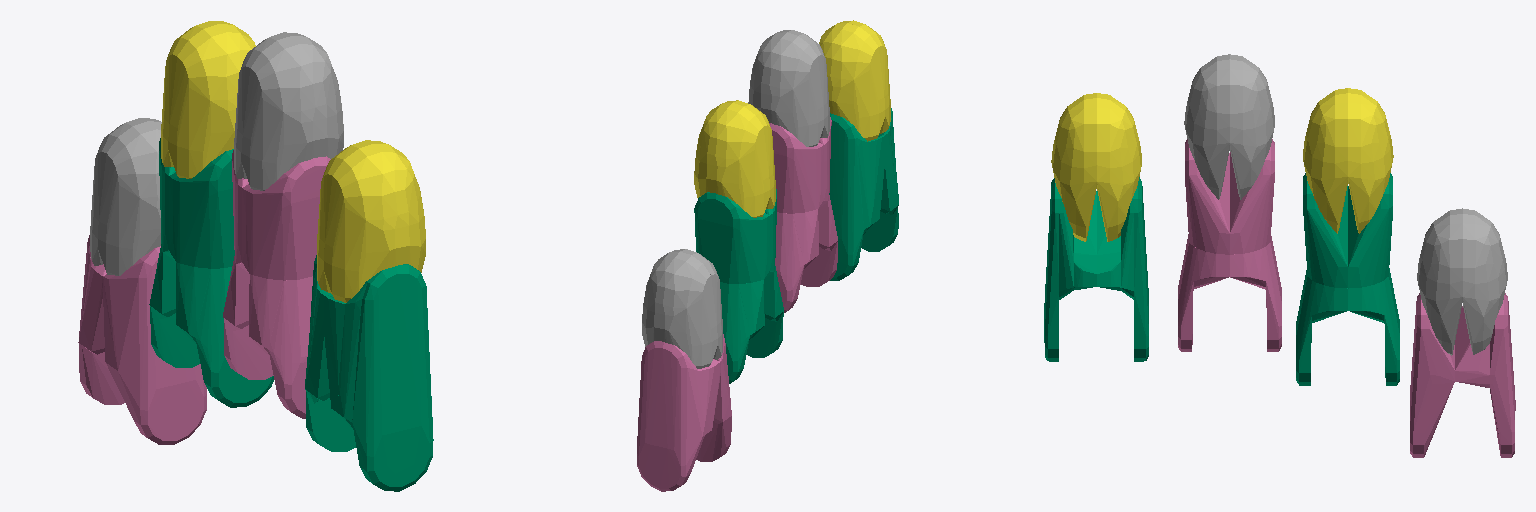
robot.urdf — svh:
<?xml version="1.0" encoding="utf-8"?>
<robot name="svh">
  <link name="base_link"/>
  <joint name="root_joint" type="fixed">
    <parent link="base_link"/>
    <child link="right_hand_base_link"/>
    <origin rpy="0 0 -1.57079" xyz="0 0 0"/>
  </joint>
  <link name="right_hand_base_link">
    <origin rpy="0 0 0" xyz="0 0 0"/>
    <visual>
      <origin rpy="0 0 0" xyz="0 0 -0.032"/>
      <geometry>
        <mesh filename="meshes/visual/base10.obj"/>
      </geometry>
    </visual>
    <collision>
      <origin rpy="0 0 0" xyz="0 0 -0.009"/>
      <geometry>
        <cylinder radius="0.045" length="0.045"/>
      </geometry>
    </collision>
  </link>
  <!-- LENGTH NOT FOUND IN DATASHEET! GUESSED!!! -->
  <link name="right_hand_e1">
    <visual>
      <origin rpy="0 0 0" xyz="0 0.01313 0"/>
      <geometry>
        <mesh filename="meshes/visual/h10_left.obj" scale="1 1 1"/>
      </geometry>
    </visual>
    <collision>
      <origin rpy="0 0 0" xyz="0 0.01313 0.013"/>
      <geometry>
        <box size="0.05 0.05 0.026"/>
      </geometry>
    </collision>
    <collision>
      <origin rpy="0 0 0" xyz="0.00573 0.0035 0.05747"/>
      <geometry>
        <box size="0.0584 0.038 0.0641"/>
      </geometry>
    </collision>
    <collision>
      <origin rpy="0 0 0" xyz="0.01 0.0035 0.096"/>
      <geometry>
        <box size="0.042 0.038 0.015"/>
      </geometry>
    </collision>
  </link>
  <!-- LENGTH NOT FOUND IN DATASHEET! GUESSED!!! -->
  <link name="right_hand_e2">
    <visual>
      <origin xyz="0.0007 0 -0.01002"/>
      <geometry>
        <mesh filename="meshes/visual/h11_left.obj" scale="1 1 1"/>
      </geometry>
    </visual>
    <collision>
      <origin rpy="0 0 0" xyz="-0.016 0 0.02"/>
      <geometry>
        <box size="0.0246 0.035 0.0564"/>
      </geometry>
    </collision>
    <collision>
      <origin rpy="0 0 0" xyz="-0.0032 -0.0083 0.048"/>
      <geometry>
        <box size="0.012 0.018 0.021"/>
      </geometry>
    </collision>
  </link>
  <!-- THUMB LINKS -->
  <link name="right_hand_z">
    <visual>
      <origin xyz="0 0 0.02442"/>
      <geometry>
        <mesh filename="meshes/visual/d10_left.obj" scale="1 1 1"/>
      </geometry>
    </visual>
    <collision>
      <origin xyz="0 0 0.02842"/>
      <geometry>
        <box size="0.024 0.0188 0.008"/>
      </geometry>
    </collision>
    <collision>
      <origin xyz="0.0125 0.0 0.04292"/>
      <geometry>
        <box size="0.006 0.024 0.033"/>
      </geometry>
    </collision>
    <collision>
      <origin xyz="-0.0125 0.0 0.04292"/>
      <geometry>
        <box size="0.006 0.024 0.033"/>
      </geometry>
    </collision>
  </link>
  <link name="right_hand_a">
    <visual>
      <geometry>
        <mesh filename="meshes/visual/d11_left.obj" scale="1 1 1"/>
      </geometry>
    </visual>
    <collision>
      <geometry>
        <mesh filename="meshes/collision/d11_left.obj" scale="1 1 1"/>
      </geometry>
    </collision>
  </link>
  <link name="right_hand_b">
    <visual>
      <geometry>
        <mesh filename="meshes/visual/d12_left.obj" scale="1 1 1"/>
      </geometry>
    </visual>
    <collision>
      <geometry>
        <mesh filename="meshes/collision/d12_left.obj" scale="1 1 1"/>
      </geometry>
    </collision>
  </link>
  <link name="right_hand_c">
    <inertial>
      <origin rpy="0 0 0" xyz="0.007 0.000 0.000"/>
      <mass value="0.02"/>
      <inertia ixx="1e-5" ixy="0.0" ixz="0.0" iyy="2e-5" iyz="0.0" izz="2e-5"/>
    </inertial>
    <visual>
      <geometry>
        <mesh filename="meshes/visual/d13_left.obj" scale="1 1 1"/>
      </geometry>
    </visual>
    <collision>
      <geometry>
        <mesh filename="meshes/collision/d13_left.obj" scale="1 1 1"/>
      </geometry>
    </collision>
  </link>
  <!-- INDEX FINGER LINKS -->
  <link name="right_hand_virtual_l">
    <visual>
      <origin xyz="0 0 0.01321"/>
      <geometry>
        <mesh filename="meshes/visual/f10_f20.obj"/>
      </geometry>
    </visual>
    <collision>
      <origin xyz="0 0 0.00121"/>
      <geometry>
        <sphere radius="0.01"/>
      </geometry>
    </collision>
  </link>
  <link name="right_hand_l">
    <visual>
      <geometry>
        <mesh filename="meshes/visual/f11.obj"/>
      </geometry>
    </visual>
    <collision>
      <geometry>
        <mesh filename="meshes/collision/f11.obj" scale="1 1 1"/>
      </geometry>
    </collision>
  </link>
  <link name="right_hand_p">
    <inertial>
      <origin rpy="0 0 0" xyz="0.01 0.000 0.000"/>
      <mass value="0.024"/>
      <inertia ixx="9e-7" ixy="0.0" ixz="0.0" iyy="3e-6" iyz="0.0" izz="2e-6"/>
    </inertial>
    <visual>
      <geometry>
        <mesh filename="meshes/visual/f12.obj"/>
      </geometry>
    </visual>
    <collision>
      <geometry>
        <mesh filename="meshes/collision/f12.obj"/>
      </geometry>
    </collision>
  </link>
  <link name="right_hand_t">
    <inertial>
      <origin rpy="0 0 0" xyz="0.007 0.000 0.000"/>
      <mass value="0.02"/>
      <inertia ixx="1e-5" ixy="0.0" ixz="0.0" iyy="2e-5" iyz="0.0" izz="2e-5"/>
    </inertial>
    <visual>
      <geometry>
        <mesh filename="meshes/visual/finger_tip.obj"/>
      </geometry>
    </visual>
    <collision>
      <geometry>
        <mesh filename="meshes/collision/finger_tip.obj" scale="1 1 1"/>
      </geometry>
    </collision>
  </link>
  <!-- MIDDLE FINGER LINKS -->
  <link name="right_hand_virtual_k">
    <visual>
      <origin xyz="0 0 0.01321"/>
      <geometry>
        <mesh filename="meshes/visual/f10_f20.obj"/>
      </geometry>
    </visual>
    <collision>
      <origin xyz="0 0 0.00321"/>
      <geometry>
        <sphere radius="0.01"/>
      </geometry>
    </collision>
  </link>
  <link name="right_hand_k">
    <visual>
      <geometry>
        <mesh filename="meshes/visual/f21.obj"/>
      </geometry>
    </visual>
    <collision>
      <geometry>
        <mesh filename="meshes/collision/f21.obj" scale="1 1 1"/>
      </geometry>
    </collision>
  </link>
  <link name="right_hand_o">
    <visual>
      <geometry>
        <mesh filename="meshes/visual/f22_f32.obj"/>
      </geometry>
    </visual>
    <collision>
      <geometry>
        <mesh filename="meshes/collision/f22_f32.obj" scale="1 1 1"/>
      </geometry>
    </collision>
  </link>
  <link name="right_hand_s">
    <inertial>
      <origin rpy="0 0 0" xyz="0.007 0.000 0.000"/>
      <mass value="0.02"/>
      <inertia ixx="1e-5" ixy="0.0" ixz="0.0" iyy="2e-5" iyz="0.0" izz="2e-5"/>
    </inertial>
    <visual>
      <geometry>
        <mesh filename="meshes/visual/finger_tip.obj"/>
      </geometry>
    </visual>
    <collision>
      <geometry>
        <mesh filename="meshes/collision/finger_tip.obj" scale="1 1 1"/>
      </geometry>
    </collision>
  </link>
  <!-- RING FINGER LINKS -->
  <link name="right_hand_virtual_j">
    <visual>
      <origin xyz="0 0 -0.01321"/>
      <geometry>
        <mesh filename="meshes/visual/f30_f40.obj"/>
      </geometry>
    </visual>
    <collision>
      <origin xyz="0 0 -0.00321"/>
      <geometry>
        <sphere radius="0.01"/>
      </geometry>
    </collision>
  </link>
  <link name="right_hand_j">
    <visual>
      <geometry>
        <mesh filename="meshes/visual/f31.obj"/>
      </geometry>
    </visual>
    <collision>
      <geometry>
        <mesh filename="meshes/collision/f31.obj" scale="1 1 1"/>
      </geometry>
    </collision>
  </link>
  <link name="right_hand_n">
    <visual>
      <geometry>
        <mesh filename="meshes/visual/f22_f32.obj"/>
      </geometry>
    </visual>
    <collision>
      <geometry>
        <mesh filename="meshes/collision/f22_f32.obj" scale="1 1 1"/>
      </geometry>
    </collision>
  </link>
  <link name="right_hand_r">
    <inertial>
      <origin rpy="0 0 0" xyz="0.007 0.000 0.000"/>
      <mass value="0.02"/>
      <inertia ixx="1e-5" ixy="0.0" ixz="0.0" iyy="2e-5" iyz="0.0" izz="2e-5"/>
    </inertial>
    <visual>
      <geometry>
        <mesh filename="meshes/visual/finger_tip.obj"/>
      </geometry>
    </visual>
    <collision>
      <geometry>
        <mesh filename="meshes/collision/finger_tip.obj" scale="1 1 1"/>
      </geometry>
    </collision>
  </link>
  <!-- LITTLE FINGER LINKS -->
  <link name="right_hand_virtual_i">
    <visual>
      <origin xyz="0 0 -0.01321"/>
      <geometry>
        <mesh filename="meshes/visual/f30_f40.obj"/>
      </geometry>
    </visual>
    <collision>
      <origin xyz="0 0 -0.00321"/>
      <geometry>
        <sphere radius="0.01"/>
      </geometry>
    </collision>
  </link>
  <link name="right_hand_i">
    <visual>
      <geometry>
        <mesh filename="meshes/visual/f41.obj"/>
      </geometry>
    </visual>
    <collision>
      <geometry>
        <mesh filename="meshes/collision/f41.obj"/>
      </geometry>
    </collision>
  </link>
  <link name="right_hand_m">
    <inertial>
      <origin rpy="0 0 0" xyz="0.007 0.000 0.000"/>
      <mass value="0.02"/>
      <inertia ixx="8e-7" ixy="0.0" ixz="0.0" iyy="2e-6" iyz="0.0" izz="2e-6"/>
    </inertial>
    <visual>
      <geometry>
        <mesh filename="meshes/visual/f42.obj"/>
      </geometry>
    </visual>
    <collision>
      <geometry>
        <mesh filename="meshes/collision/f42.obj"/>
      </geometry>
    </collision>
  </link>
  <link name="right_hand_q">
    <inertial>
      <origin rpy="0 0 0" xyz="0.007 0.000 0.000"/>
      <mass value="0.02"/>
      <inertia ixx="1e-5" ixy="0.0" ixz="0.0" iyy="2e-5" iyz="0.0" izz="2e-5"/>
    </inertial>
    <visual>
      <geometry>
        <mesh filename="meshes/visual/finger_tip.obj"/>
      </geometry>
    </visual>
    <collision>
      <geometry>
        <mesh filename="meshes/collision/finger_tip.obj"/>
      </geometry>
    </collision>
  </link>
  <joint name="right_hand_Thumb_Flexion" type="revolute">
    <parent link="right_hand_z"/>
    <child link="right_hand_a"/>
    <limit effort="1000.0" lower="0.0" upper="0.9704" velocity="1"/>
    <origin rpy="-1.57079 -0.6004 -1.57079" xyz="0 0 0.04596"/>
    <axis xyz="0 0 1"/>
  </joint>
  <!-- BASE_LINE JOINTS -->
  <joint name="right_hand_Thumb_Opposition" type="revolute">
    <parent link="right_hand_e1"/>
    <child link="right_hand_z"/>
    <limit effort="1000.0" lower="0.0" upper="0.9879" velocity="1"/>
    <origin rpy="0 0.2618 1.571" xyz="0.0169 0.02626 0"/>
    <axis xyz="0 0 1"/>
  </joint>
  <joint name="right_hand_f4" type="fixed">
    <parent link="right_hand_base_link"/>
    <child link="right_hand_e1"/>
    <origin rpy="0 0 0" xyz="0 -0.01313 0"/>
  </joint>
  <joint name="right_hand_j5" type="revolute">
    <parent link="right_hand_e1"/>
    <child link="right_hand_e2"/>
    <limit effort="1000.0" lower="0.0" upper="0.98786" velocity="1"/>
    <origin rpy="0 0 0" xyz="-0.0184 0.006 0.0375"/>
    <axis xyz="0 0 -1"/>
    <mimic joint="right_hand_Thumb_Opposition" multiplier="1" offset="0"/>
  </joint>
  <!-- THUMB JOINTS -->
  <joint name="right_hand_j3" type="revolute">
    <parent link="right_hand_a"/>
    <child link="right_hand_b"/>
    <limit effort="1000.0" lower="0.0" upper="0.98506" velocity="1"/>
    <origin rpy="0 0 0" xyz="0.0485 0 0"/>
    <axis xyz="0 0 -1"/>
    <mimic joint="right_hand_Thumb_Flexion" multiplier="1.01511" offset="0"/>
  </joint>
  <joint name="right_hand_j4" type="revolute">
    <parent link="right_hand_b"/>
    <child link="right_hand_c"/>
    <limit effort="1000.0" lower="0.0" upper="1.406" velocity="1"/>
    <origin rpy="0 0 0" xyz="0.030 0 0"/>
    <axis xyz="0 0 -1"/>
    <mimic joint="right_hand_Thumb_Flexion" multiplier="1.44889" offset="0"/>
  </joint>
  <!-- INDEX FINGER JOINTS -->
  <joint name="right_hand_Index_Finger_Distal" type="revolute">
    <parent link="right_hand_l"/>
    <child link="right_hand_p"/>
    <limit effort="1000.0" lower="0" upper="1.334" velocity="1"/>
    <origin rpy="0 0 0" xyz="0.04804 0 0"/>
    <axis xyz="0 0 1"/>
  </joint>
  <joint name="right_hand_Index_Finger_Proximal" type="revolute">
    <parent link="right_hand_virtual_l"/>
    <child link="right_hand_l"/>
    <limit effort="1000.0" lower="0.0" upper="0.79849" velocity="1"/>
    <origin rpy="-1.5707 0 0" xyz="0 0 0"/>
    <axis xyz="0 0 1"/>
  </joint>
  <!-- JOINT Finger_Spread in BASE_LINE section for better UX -->
  <joint name="right_hand_j14" type="revolute">
    <parent link="right_hand_p"/>
    <child link="right_hand_t"/>
    <limit effort="1000.0" lower="0" upper="1.394" velocity="1"/>
    <origin rpy="0 0 0" xyz="0.026 0 0"/>
    <axis xyz="0 0 1"/>
    <mimic joint="right_hand_Index_Finger_Distal" multiplier="1.0450" offset="0"/>
  </joint>
  <!-- MIDDLE FINGER JOINTS -->
  <joint name="right_hand_Middle_Finger_Proximal" type="revolute">
    <parent link="right_hand_virtual_k"/>
    <child link="right_hand_k"/>
    <limit effort="1000.0" lower="0.0" upper="0.79849" velocity="1"/>
    <origin rpy="-1.5707 0 0" xyz="0 0 0"/>
    <axis xyz="0 0 1"/>
  </joint>
  <joint name="right_hand_Middle_Finger_Distal" type="revolute">
    <parent link="right_hand_k"/>
    <child link="right_hand_o"/>
    <limit effort="1000.0" lower="0" upper="1.334" velocity="1"/>
    <origin rpy="0 0 0" xyz="0.05004 0 0"/>
    <axis xyz="0 0 1"/>
  </joint>
  <joint name="right_hand_j15" type="revolute">
    <parent link="right_hand_o"/>
    <child link="right_hand_s"/>
    <limit effort="1000.0" lower="0" upper="1.334" velocity="1"/>
    <origin rpy="0 0 0" xyz="0.032 0 0"/>
    <axis xyz="0 0 1"/>
    <mimic joint="right_hand_Middle_Finger_Distal" multiplier="1.0454" offset="0"/>
  </joint>
  <!-- RING FINGER JOINTS -->
  <joint name="right_hand_Ring_Finger" type="revolute">
    <parent link="right_hand_virtual_j"/>
    <child link="right_hand_j"/>
    <limit effort="1000.0" lower="0.0" upper="0.98175" velocity="1"/>
    <origin rpy="1.5707 0 0" xyz="0 0 0"/>
    <axis xyz="0 0 1"/>
  </joint>
  <joint name="right_hand_j12" type="revolute">
    <parent link="right_hand_j"/>
    <child link="right_hand_n"/>
    <limit effort="1000.0" lower="0" upper="1.334" velocity="1"/>
    <origin rpy="0 0 0" xyz="0.05004 0 0"/>
    <axis xyz="0 0 1"/>
    <mimic joint="right_hand_Ring_Finger" multiplier="1.3588" offset="0"/>
  </joint>
  <joint name="right_hand_j16" type="revolute">
    <parent link="right_hand_n"/>
    <child link="right_hand_r"/>
    <limit effort="1000.0" lower="0" upper="1.395" velocity="1"/>
    <origin rpy="0 0 0" xyz="0.032 0 0"/>
    <axis xyz="0 0 1"/>
    <mimic joint="right_hand_Ring_Finger" multiplier="1.42093" offset="0"/>
  </joint>
  <!-- PINKY JOINTS -->
  <joint name="right_hand_Pinky" type="revolute">
    <parent link="right_hand_virtual_i"/>
    <child link="right_hand_i"/>
    <limit effort="1000.0" lower="0.0" upper="0.98175" velocity="1"/>
    <origin rpy="1.5707 0 0" xyz="0 0 0"/>
    <axis xyz="0 0 1"/>
  </joint>
  <joint name="right_hand_j13" type="revolute">
    <parent link="right_hand_i"/>
    <child link="right_hand_m"/>
    <limit effort="1000.0" lower="0" upper="1.334" velocity="1"/>
    <origin rpy="0 0 0" xyz="0.04454 0 0"/>
    <axis xyz="0 0 1"/>
    <mimic joint="right_hand_Pinky" multiplier="1.35880" offset="0"/>
  </joint>
  <joint name="right_hand_j17" type="revolute">
    <parent link="right_hand_m"/>
    <child link="right_hand_q"/>
    <limit effort="1000.0" lower="0" upper="1.3971" velocity="1"/>
    <origin rpy="0 0 0" xyz="0.022 0 0"/>
    <axis xyz="0 0 1"/>
    <mimic joint="right_hand_Pinky" multiplier="1.42307" offset="0"/>
  </joint>
  <joint name="right_hand_index_spread" type="revolute">
    <parent link="right_hand_e1"/>
    <child link="right_hand_virtual_l"/>
    <limit effort="1000.0" lower="0.0" upper="0.28833" velocity="1"/>
    <origin rpy="0 -1.5707 1.5707" xyz="0.025 0 0.110"/>
    <axis xyz="0 0 -1"/>
    <mimic joint="right_hand_Finger_Spread" multiplier="0.5" offset="0"/>
  </joint>
  <joint name="right_hand_middle_spread_dummy" type="fixed">
    <parent link="right_hand_e1"/>
    <child link="right_hand_virtual_k"/>
    <origin rpy="0 -1.5707 1.5707" xyz="0 0 0.110"/>
  </joint>
  <joint name="right_hand_ring_spread" type="revolute">
    <parent link="right_hand_e2"/>
    <child link="right_hand_virtual_j"/>
    <limit effort="1000.0" lower="0.0" upper="0.28833" velocity="1"/>
    <origin rpy="-1.5707 -1.5707 0" xyz="-0.003855 -0.006 0.0655"/>
    <axis xyz="0 0 -1"/>
    <mimic joint="right_hand_Finger_Spread" multiplier="0.5" offset="0"/>
  </joint>
  <joint name="right_hand_Finger_Spread" type="revolute">
    <parent link="right_hand_e2"/>
    <child link="right_hand_virtual_i"/>
    <limit effort="1000.0" lower="0.0" upper="0.5829" velocity="1"/>
    <origin rpy="-1.5707 -1.5707 0" xyz="-0.025355 -0.006 0.056"/>
    <axis xyz="0 0 -1"/>
  </joint>

  <link name="thtip"/>
  <link name="fftip"/>
  <link name="mftip"/>
  <link name="rftip"/>
  <link name="lftip"/>
  <joint name="thtip_joint" type="fixed">
    <parent link="right_hand_c"/>
    <child link="thtip"/>
    <origin rpy="0.00000 -0.00000 0.00000" xyz="0.0275 0.000 0.000"/>
  </joint>
  <joint name="fftip_joint" type="fixed">
    <parent link="right_hand_t"/>
    <child link="fftip"/>
    <origin rpy="0.00000 -0.00000 0.00000" xyz="0.014 0.000 0.000"/>
  </joint>
  <joint name="mftip_joint" type="fixed">
    <parent link="right_hand_s"/>
    <child link="mftip"/>
    <origin rpy="0.00000 -0.00000 0.00000" xyz="0.014 0.000 0.000"/>
  </joint>
  <joint name="rftip_joint" type="fixed">
    <parent link="right_hand_r"/>
    <child link="rftip"/>
    <origin rpy="0.00000 -0.00000 0.00000" xyz="0.014 0.000 0.000"/>
  </joint>
  <joint name="lftip_joint" type="fixed">
    <parent link="right_hand_q"/>
    <child link="lftip"/>
    <origin rpy="0.00000 -0.00000 0.00000" xyz="0.014 0.000 0.000"/>
  </joint>
</robot>

--- Render facts (derived) ---
The picture shows the robot from 3 angles, left to right: view 1: azimuth 30°, elevation 25°; view 2: azimuth 150°, elevation 25°; view 3: azimuth 270°, elevation 25°; orthographic projection.
Model svh with 29 links and 28 joints (20 revolute, 8 fixed), rooted at base_link, posed all joints at 0.
Visible links, largest first — view 1: right_hand_p, right_hand_o, right_hand_n, right_hand_m, right_hand_t, right_hand_s, right_hand_r, right_hand_q; view 2: right_hand_m, right_hand_n, right_hand_o, right_hand_p, right_hand_q, right_hand_r, right_hand_s, right_hand_t; view 3: right_hand_o, right_hand_n, right_hand_t, right_hand_q, right_hand_p, right_hand_s, right_hand_r, right_hand_m.
Boxes of the visible links, x1,y1,x2,y2 form: right_hand_p: (305, 255, 433, 491); right_hand_o: (223, 150, 330, 418); right_hand_n: (149, 138, 273, 407); right_hand_m: (78, 235, 206, 444); right_hand_t: (317, 140, 425, 302); right_hand_s: (234, 32, 343, 190); right_hand_r: (161, 21, 255, 178); right_hand_q: (90, 118, 161, 275); right_hand_m: (637, 334, 731, 491); right_hand_n: (694, 189, 783, 383); right_hand_o: (769, 117, 837, 312); right_hand_p: (829, 108, 898, 280); right_hand_q: (642, 249, 722, 368); right_hand_r: (694, 100, 775, 217); right_hand_s: (748, 30, 829, 146); right_hand_t: (819, 20, 890, 141); right_hand_o: (1178, 139, 1281, 351); right_hand_n: (1296, 173, 1399, 385); right_hand_t: (1051, 93, 1141, 241); right_hand_q: (1417, 208, 1507, 355); right_hand_p: (1044, 177, 1148, 361); right_hand_s: (1184, 54, 1274, 199); right_hand_r: (1303, 88, 1393, 233); right_hand_m: (1410, 293, 1515, 457).
Size in the robot's own frame: 0.017 by 0.0886 by 0.0824 metres.
Meshes: 17 distinct files referenced, 8 mesh visuals loaded (4 OBJ); not drawn: 15 (reference not matched to a file when rendering).